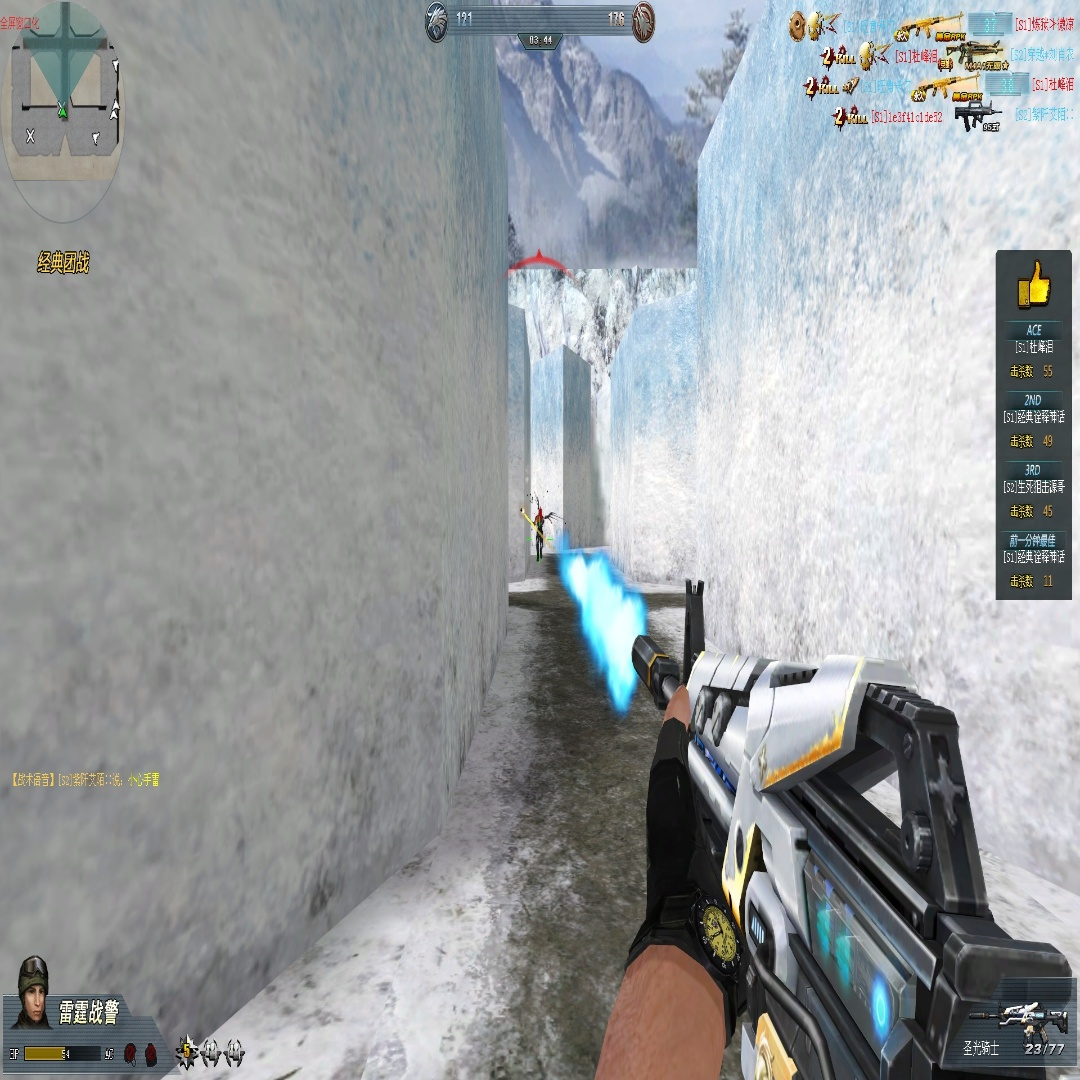t: (536, 508, 547, 556)
